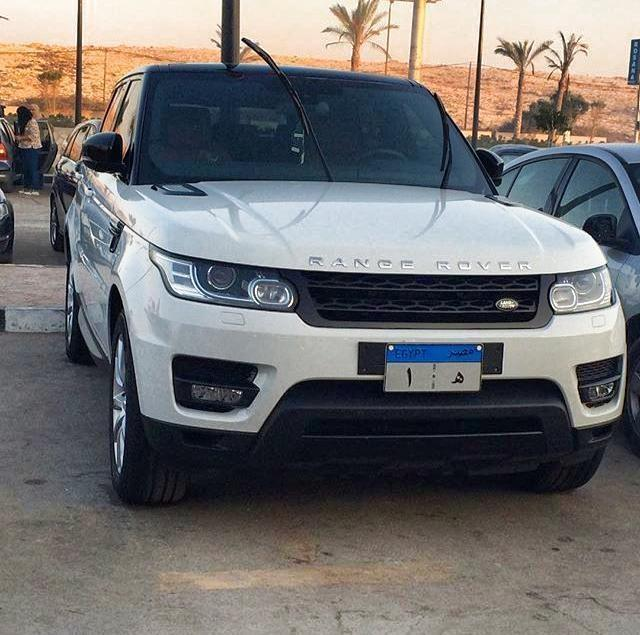1: (401, 363, 417, 387)
Heeh: (450, 367, 466, 387)
License Plate: (382, 340, 485, 394)
car: (64, 63, 625, 507), (572, 146, 640, 381), (52, 121, 94, 245)
